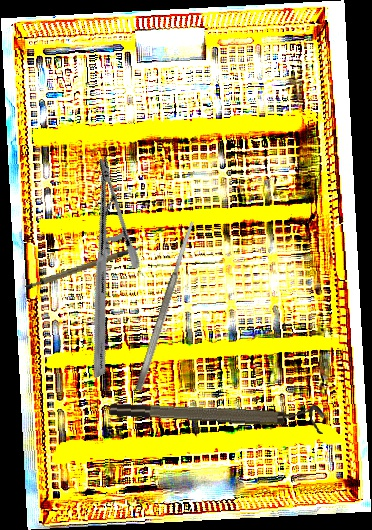Fixation Ring: (108, 391, 326, 434)
Needle Holder: (5, 155, 198, 379)
Scalpel Handle: (21, 245, 148, 292)
Spatula Surgical: (133, 220, 198, 392)
